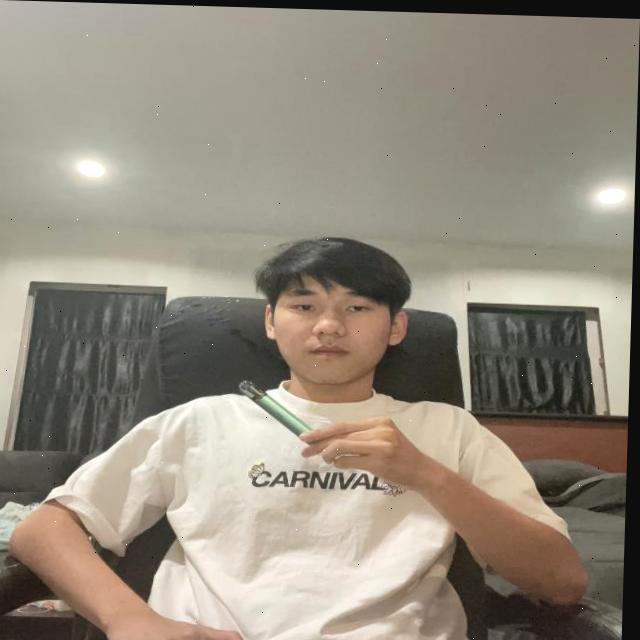vape: (237, 374, 314, 439)
